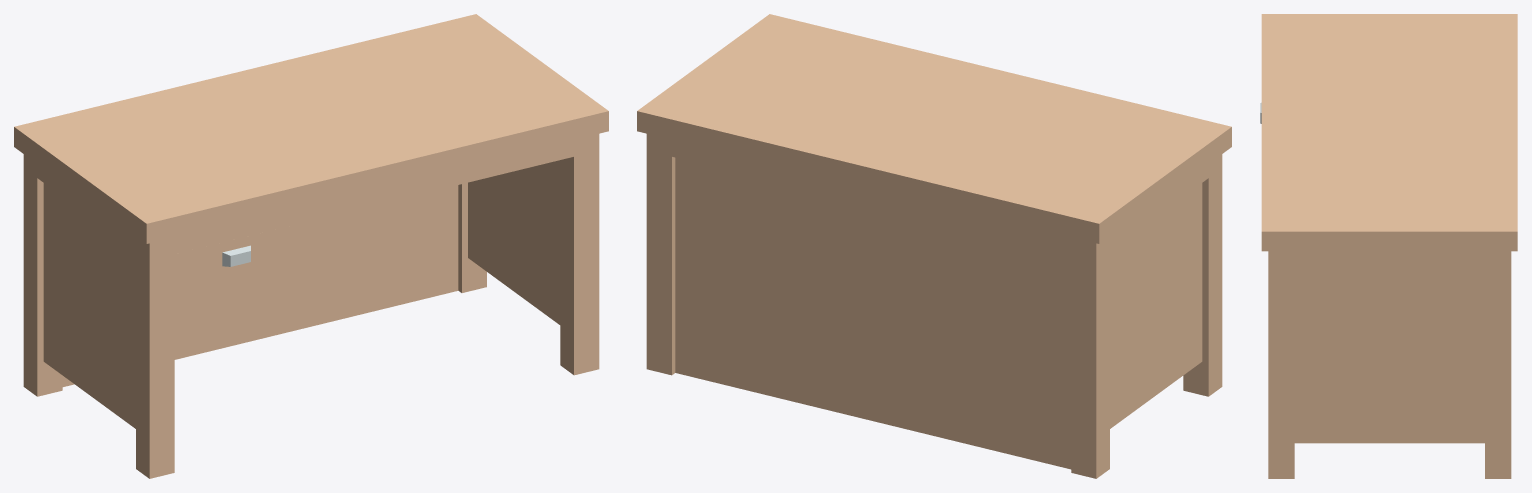
The model's file is kenney-desk.glb.
The picture shows the model from 3 angles, left to right: view 1: azimuth 30°, elevation 25°; view 2: azimuth 150°, elevation 25°; view 3: azimuth 270°, elevation 25°; orthographic projection. The views are drawn at different scales.
Visible parts, largest first — view 1: Mesh desk, drawer; view 2: Mesh desk; view 3: Mesh desk.
Boxes of the visible parts, x1,y1,x2,y2 form: Mesh desk: [14, 14, 608, 478]; drawer: [174, 224, 298, 287]; Mesh desk: [637, 14, 1231, 478]; Mesh desk: [1261, 14, 1517, 478].
Size of the model in its own units: 1.4 by 0.75 by 0.7.
